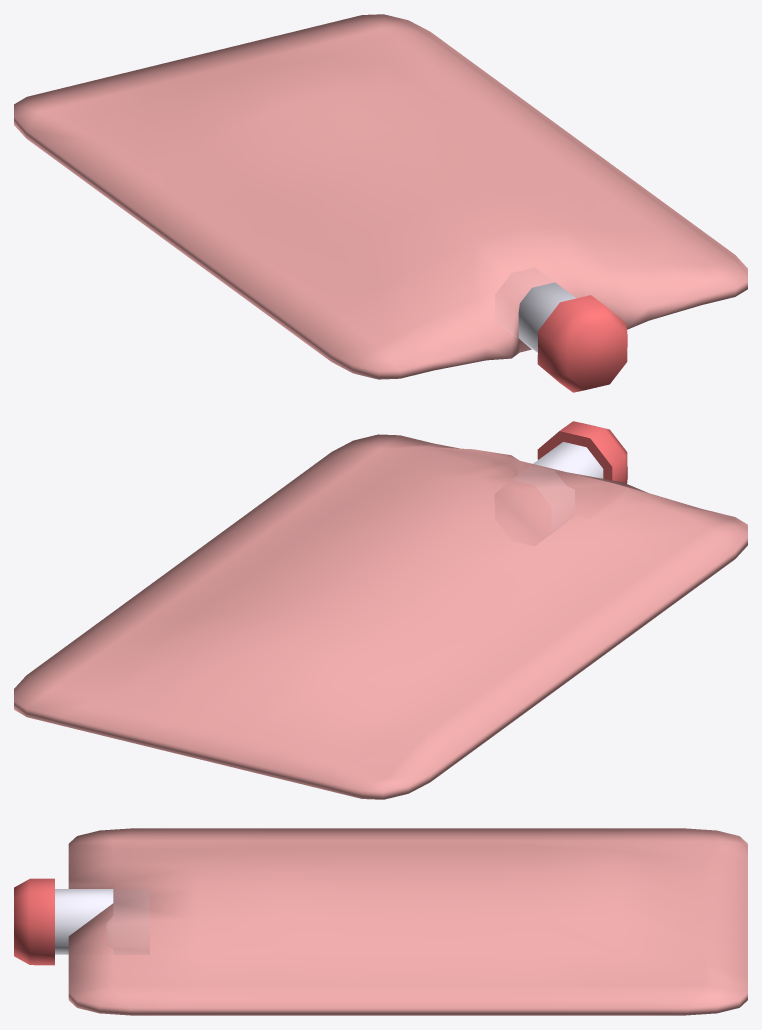
The model's file is mug.cyberpunk.fbx.
3 renders of one model, top to bottom at view 1: azimuth 30°, elevation 25°; view 2: azimuth 150°, elevation 25°; view 3: azimuth 270°, elevation 25°, orthographic. The views are drawn at different scales.
Visible parts, largest first — view 1: Cylinder; view 2: Cylinder; view 3: Cylinder.
Part boxes in pixels (x1,y1,x2,y2): Cylinder: (14, 14, 747, 392); Cylinder: (14, 421, 747, 799); Cylinder: (14, 828, 747, 1015).
Size of the model in its own units: 49.58 by 11.21 by 85.79.
